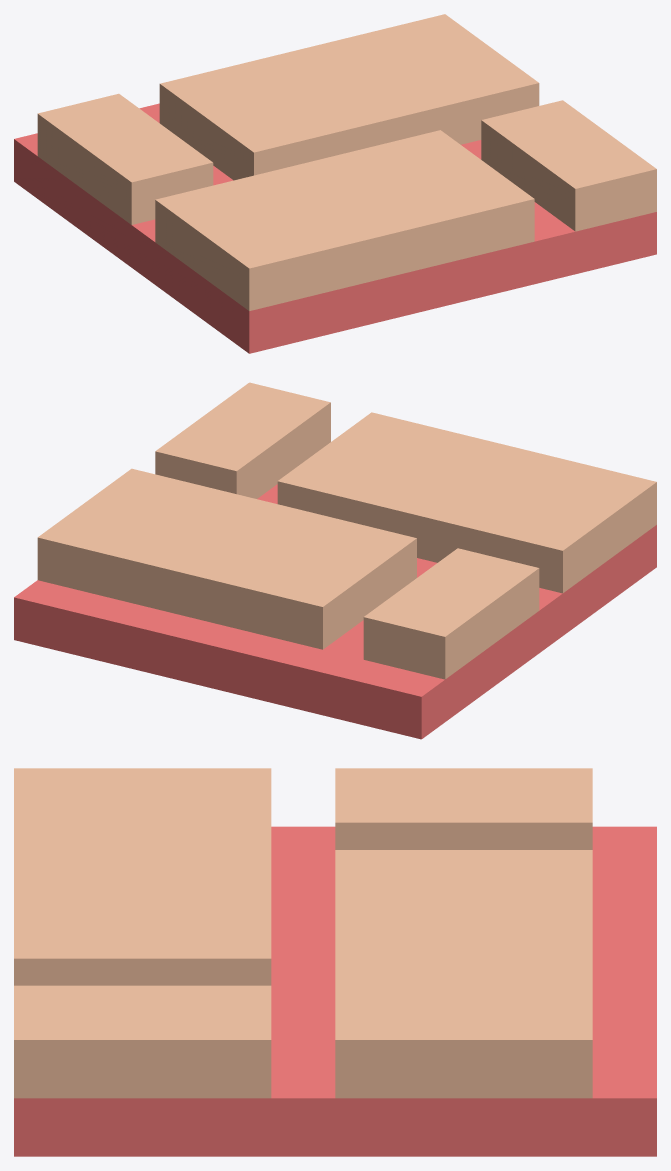
Rendered from start-up-zone-step-stone.obj.
3 views of the same model, one above another, from view 1: azimuth 30°, elevation 25°; view 2: azimuth 150°, elevation 25°; view 3: azimuth 270°, elevation 25° (orthographic). The views are drawn at different scales.
Size of the model in its own units: 1 by 0.2 by 1.
Materials: 1 (1 with a texture image).
